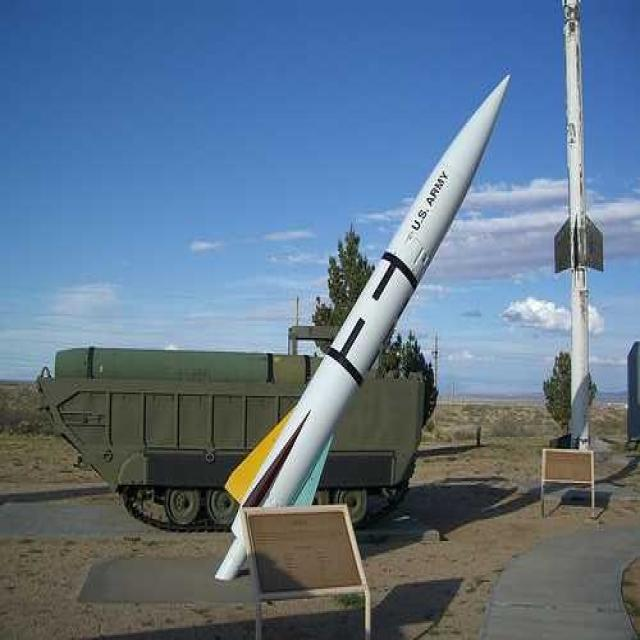missile: (211, 67, 508, 576)
